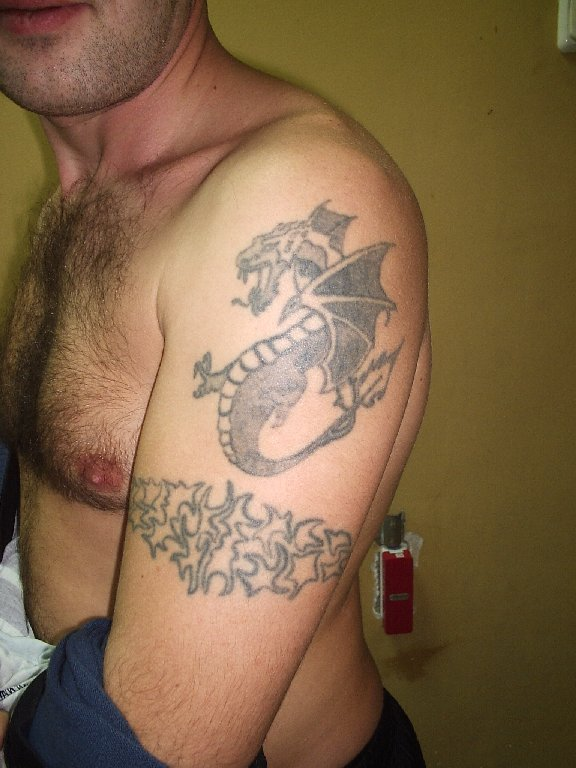tatu6_drakon: (169, 183, 435, 489)
